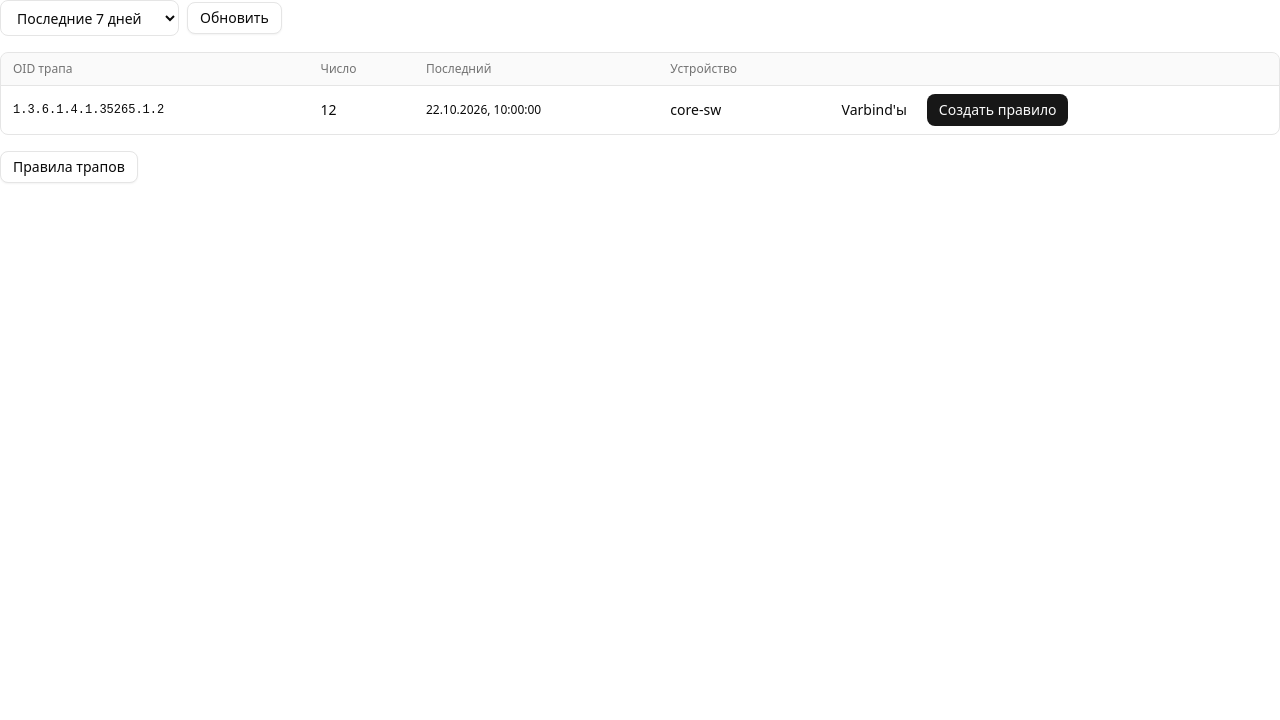
Test: Unidentified › shows trap_rule_exists and keeps the dialog open
The width and height of the screenshot is (1280, 720).
Click the button "Создать правило".
click(998, 110)  # box [927,94,1068,126]
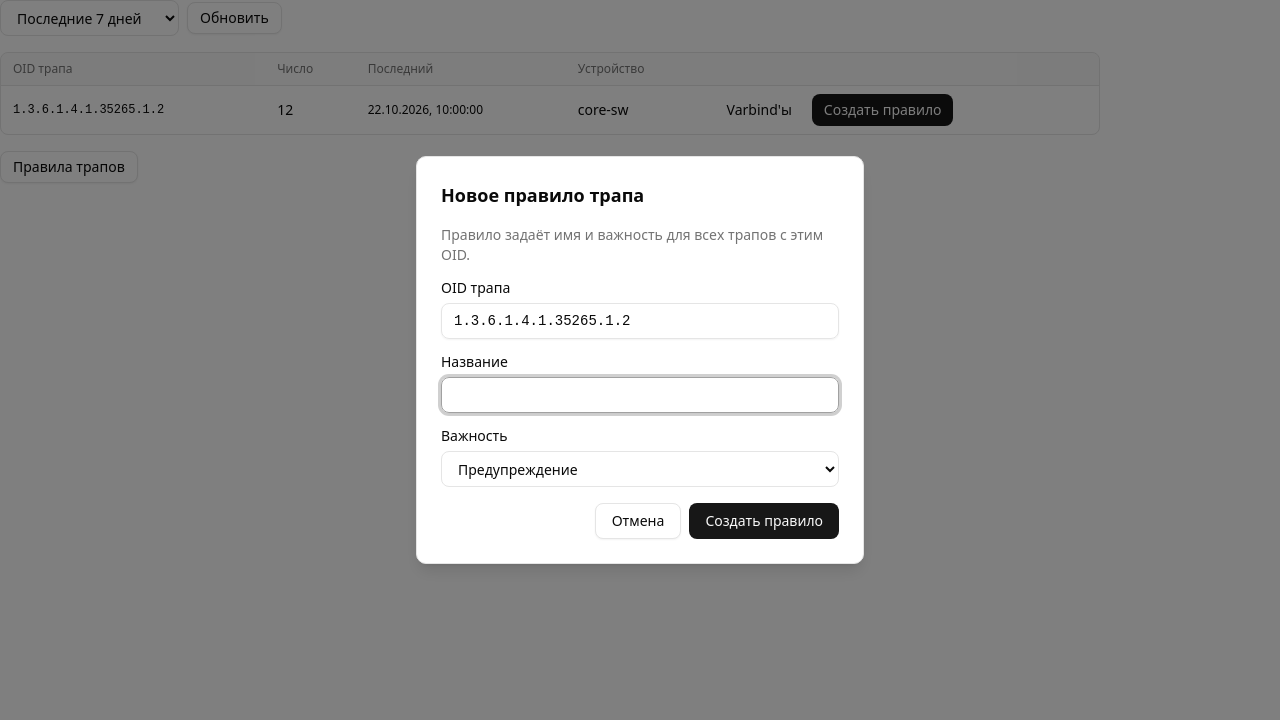
Type "x" into the field labelled "Название".
click(640, 395); type("x")  # box [441,377,839,413]
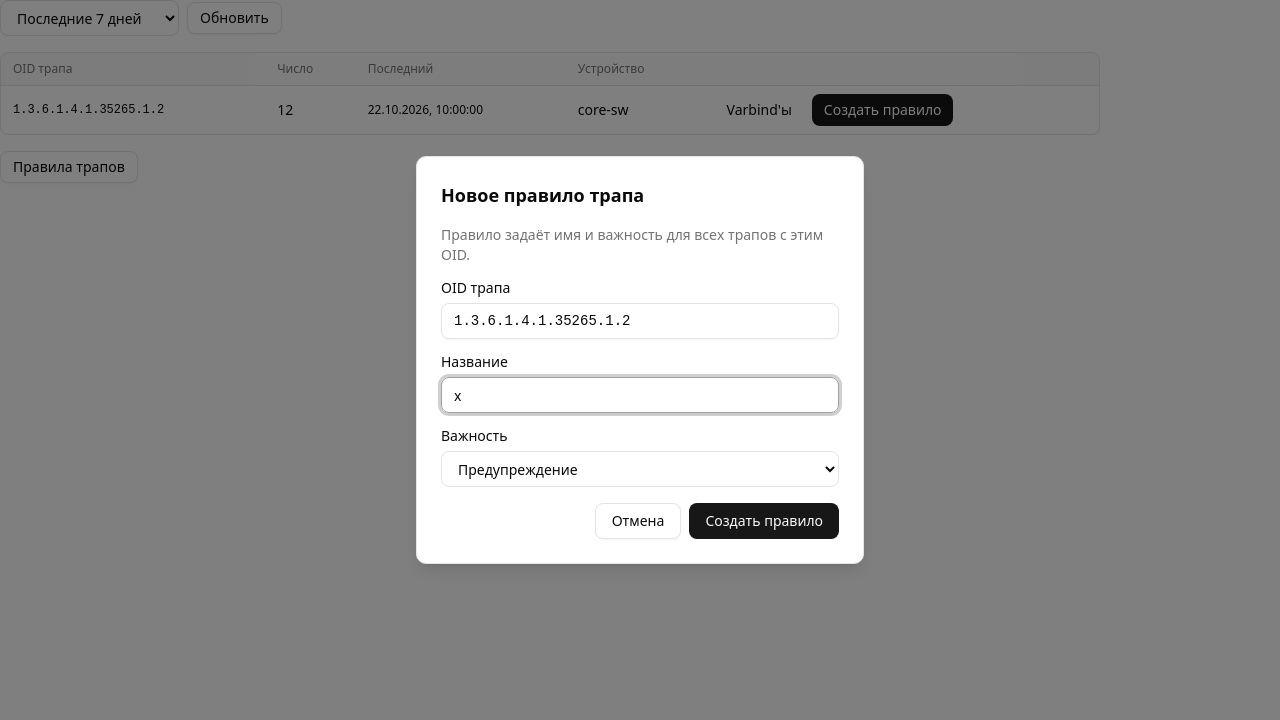
Click the button "Создать правило".
click(764, 521)  # box [689,503,839,539]
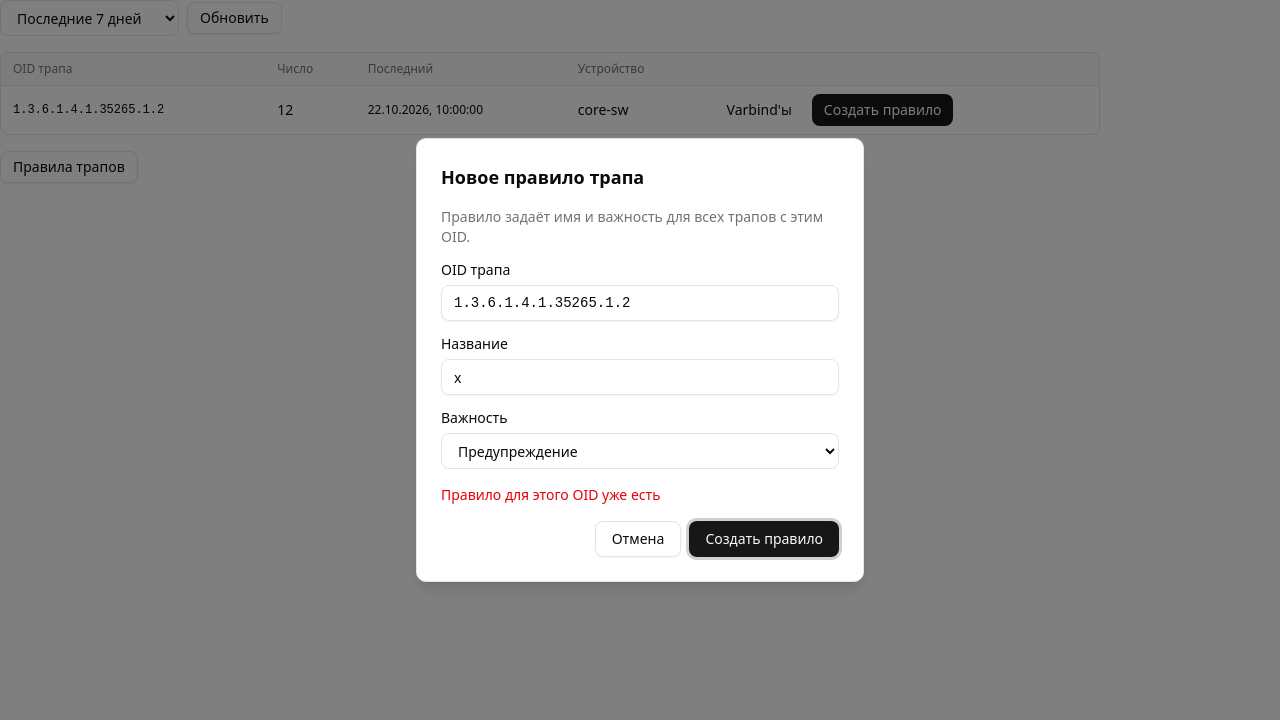
Check: the message reads "Правило для этого OID уже есть", box [441,485,660,504]
